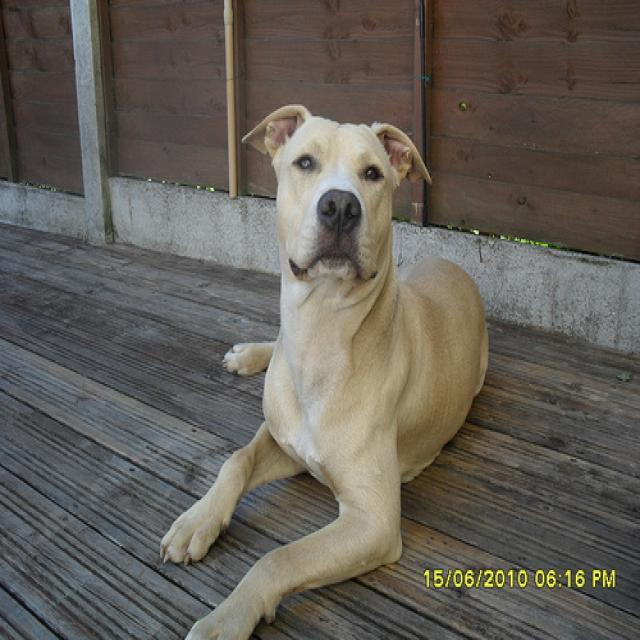dog-american_pit_bull_terrier: (147, 94, 498, 637)
